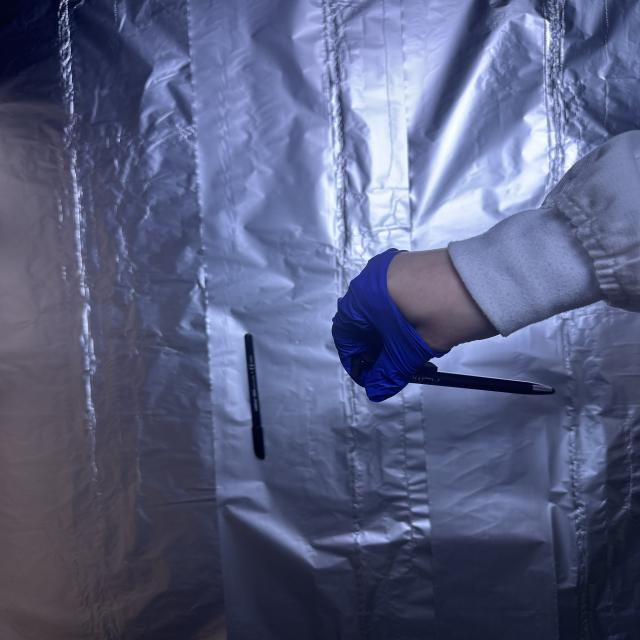glove_partial: (331, 243, 504, 401)
